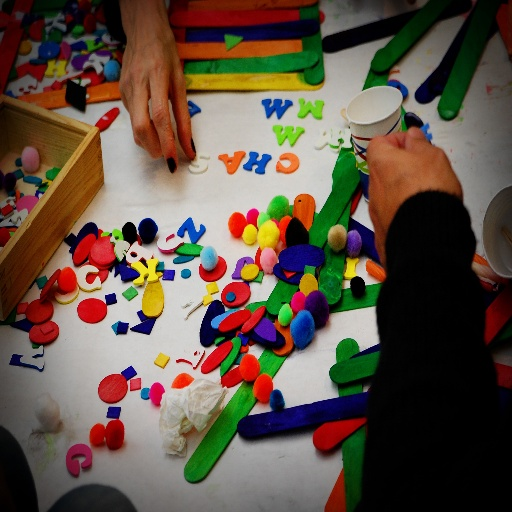hand: (364, 125, 464, 270), (115, 9, 196, 175)
